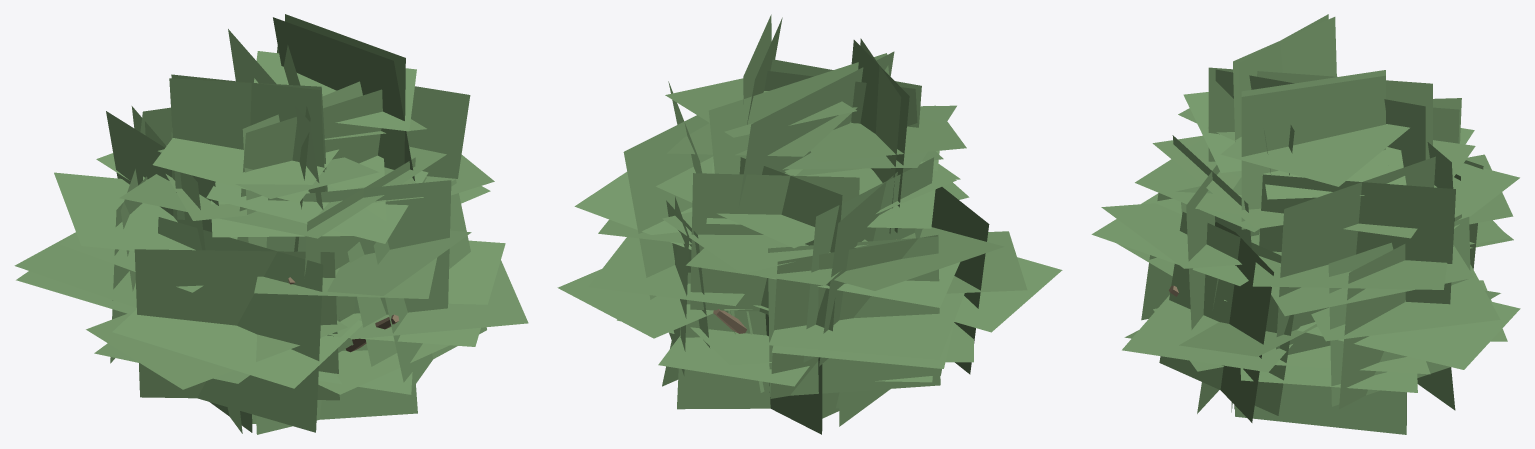
Rendered from bush.glb.
3 renders of one model, left to right at view 1: azimuth 30°, elevation 25°; view 2: azimuth 150°, elevation 25°; view 3: azimuth 270°, elevation 25°, orthographic. The views are drawn at different scales.
Visible parts, largest first — view 1: Bush; view 2: Bush; view 3: Bush.
Boxes of the visible parts, left/top/right/bottom form: Bush: left=14, top=14, right=528, bottom=434; Bush: left=557, top=14, right=1062, bottom=434; Bush: left=1091, top=14, right=1520, bottom=434.
Bounding box in the file's own units: 1.27 × 1.05 × 1.24.
